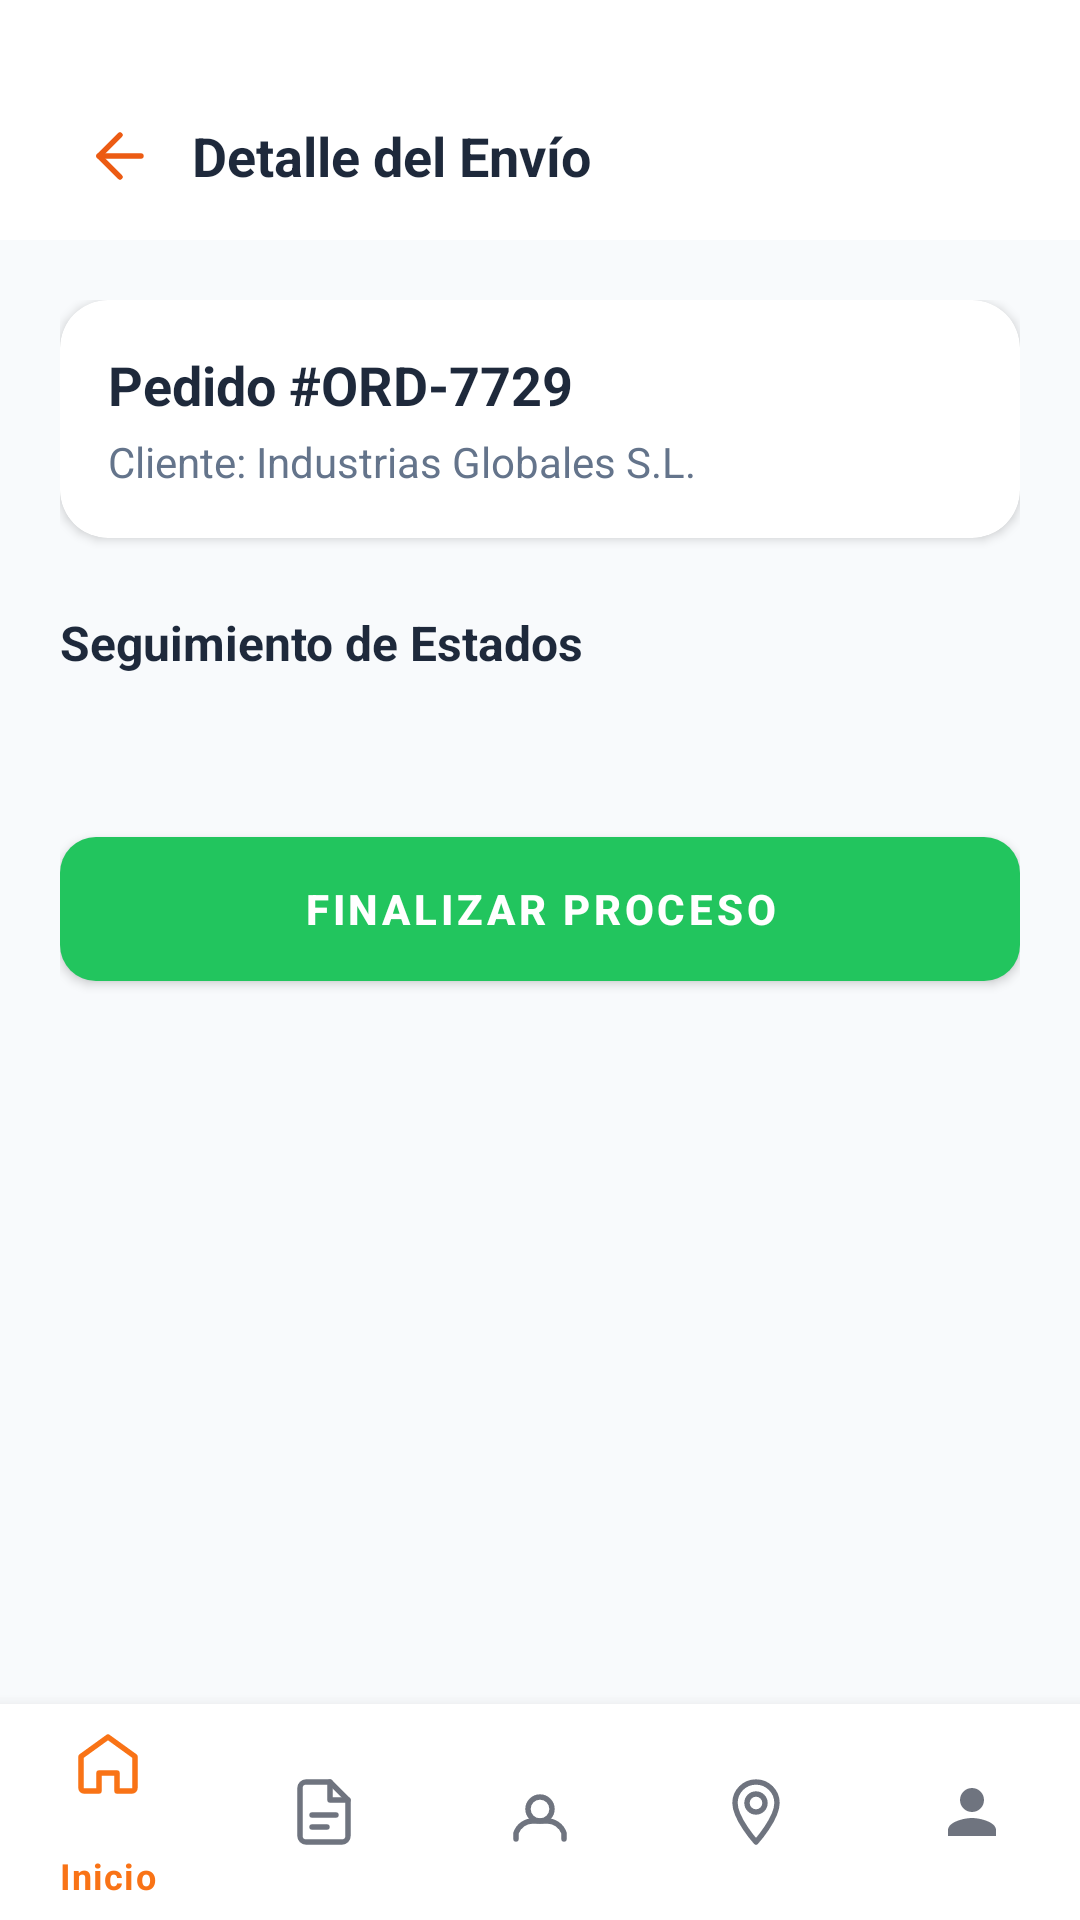

Named icons in this screenshot (1080px x 1920px) and their centers, [x,y]:
arrow back: [120,156]
